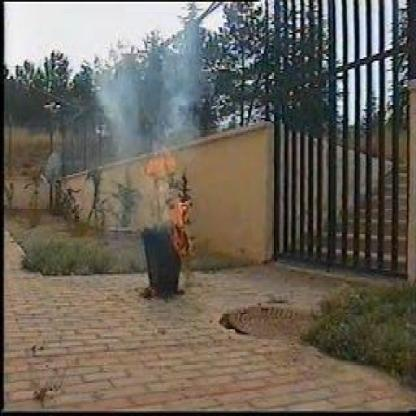-: (102, 36, 204, 143)
foggia-v2-map80-epoch100 - v1 4323: (172, 202, 188, 249)
